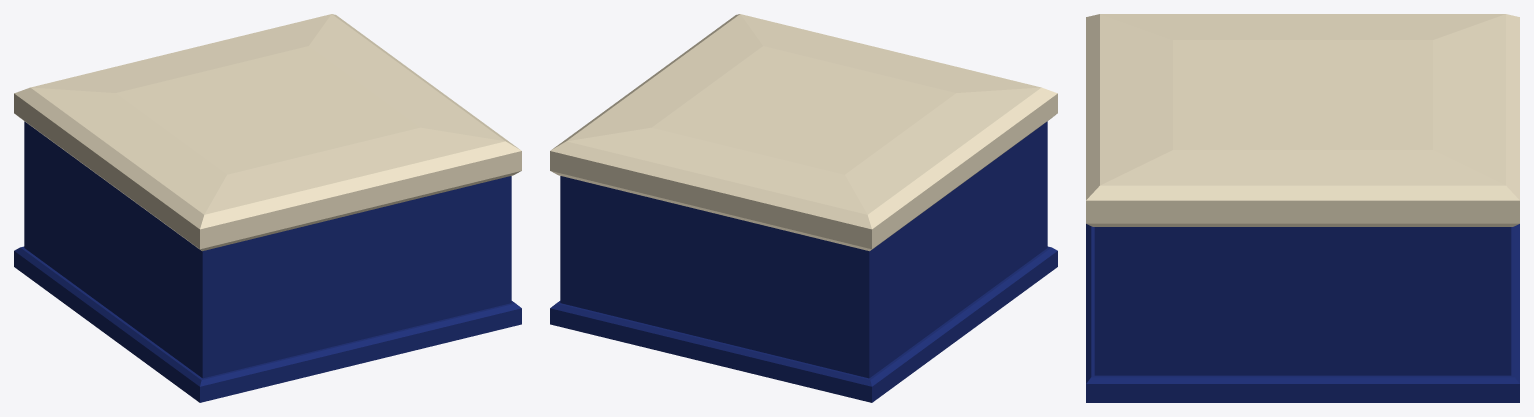
The model's file is wall_block.glb.
3 views of the same model, side by side, from view 1: azimuth 30°, elevation 25°; view 2: azimuth 150°, elevation 25°; view 3: azimuth 270°, elevation 25° (orthographic). The views are drawn at different scales.
Parts seen in each view (by area): view 1: wall_block_block; view 2: wall_block_block; view 3: wall_block_block.
Boxes of the visible parts, x1,y1,x2,y2 form: wall_block_block: (14,14,521,402); wall_block_block: (550,14,1057,402); wall_block_block: (1086,14,1519,402).
Bounding box in the file's own units: 1 × 0.55 × 1.
